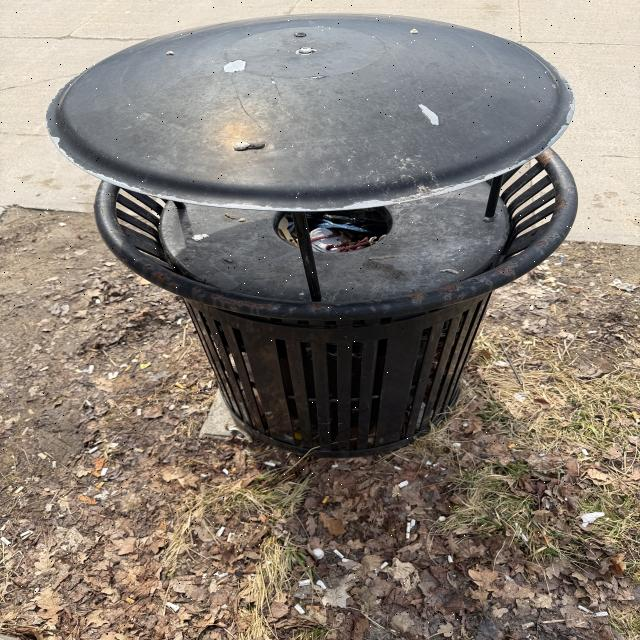Dustbin: (49, 14, 578, 456)
